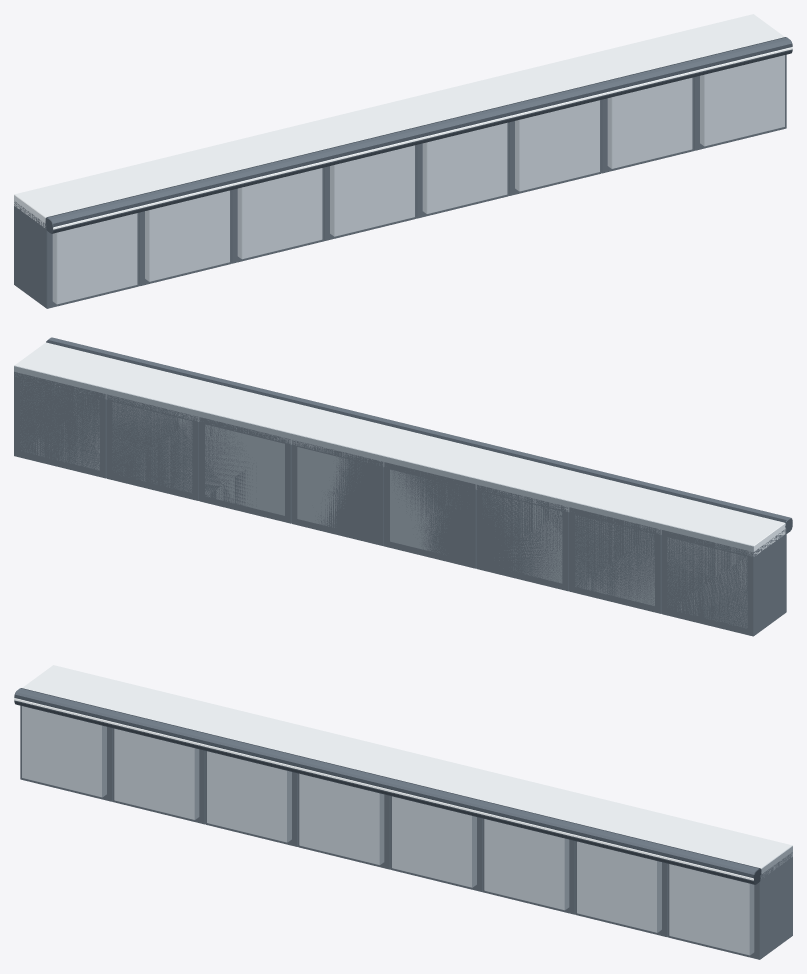
Rendered from Terrain_TopRun8.gltf.
3 renders of one model, top to bottom at view 1: azimuth 30°, elevation 25°; view 2: azimuth 150°, elevation 25°; view 3: azimuth 330°, elevation 25°, orthographic.
Visible parts, largest first — view 1: Terrain_TopRun8_baked; view 2: Terrain_TopRun8_baked; view 3: Terrain_TopRun8_baked.
Part boxes in pixels (x1,y1,x2,y2): Terrain_TopRun8_baked: (14,14,792,308); Terrain_TopRun8_baked: (14,337,792,636); Terrain_TopRun8_baked: (14,665,792,959).
Size of the model in its own units: 8 by 0.9495 by 0.74.
